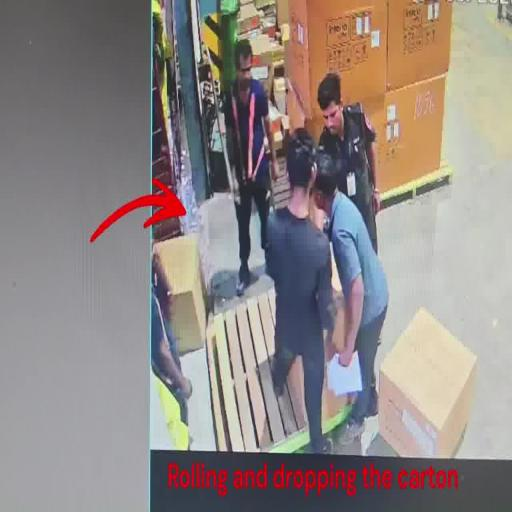carton: (284, 79, 446, 199), (378, 307, 478, 459), (287, 240, 356, 434), (278, 0, 388, 117), (154, 231, 206, 356), (387, 1, 452, 94)
pallet: (204, 283, 310, 457), (374, 166, 454, 212)
person: (312, 147, 389, 450), (264, 129, 335, 455), (230, 37, 279, 294), (314, 70, 380, 252), (150, 252, 192, 430)
